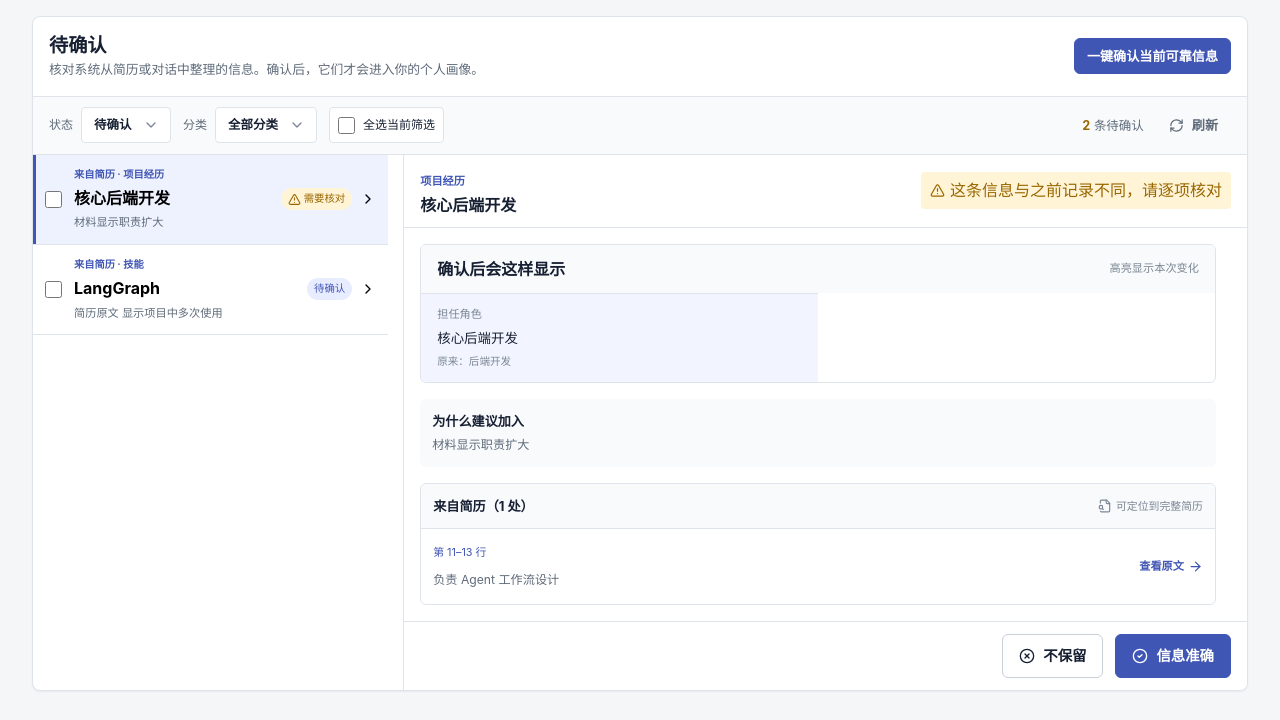
Test case: ClaimReview › summarizes safe and excluded items before one-click confirmation
Step 1. Click the button "一键确认当前可靠信息" → (1152,56), box [1074, 38, 1231, 74]
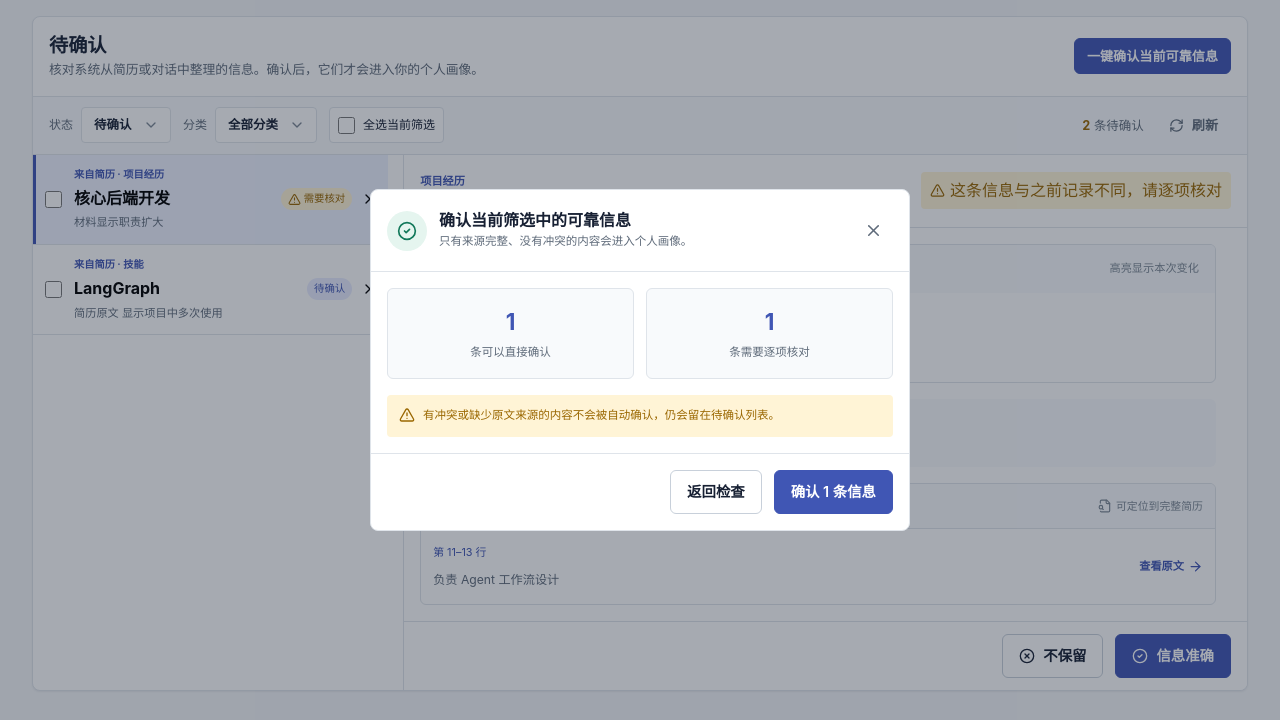
Expected: the dialog "确认当前筛选中的可靠信息" shows "不会被自动确认", [423, 408, 780, 422]
